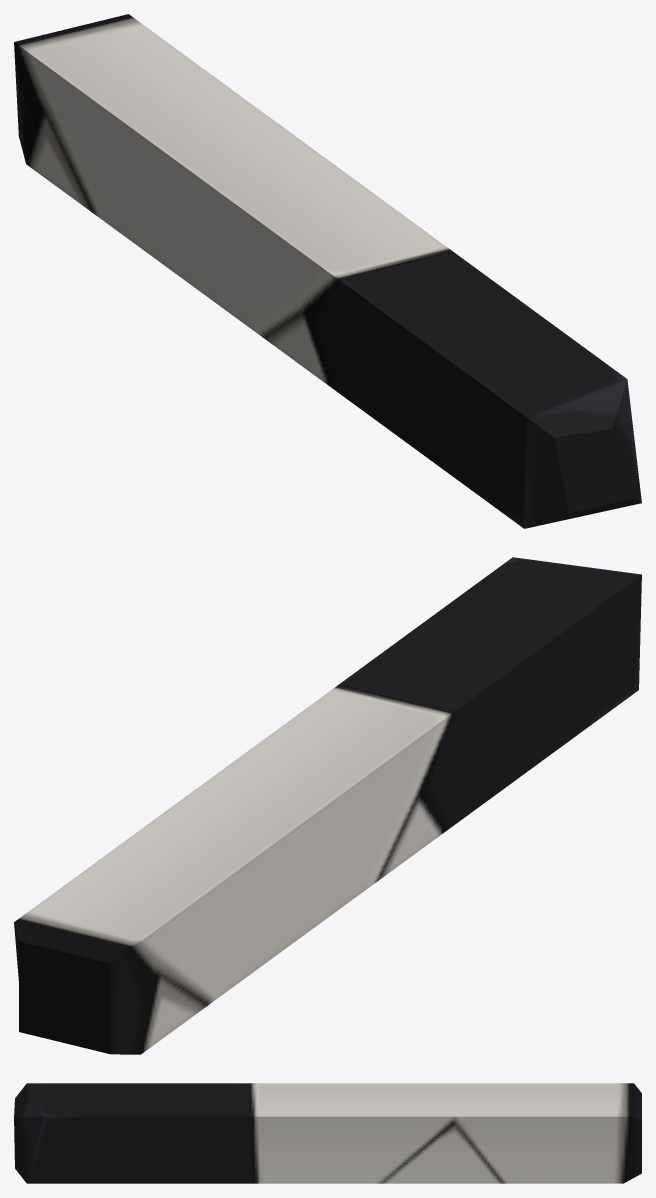
Rendered from Brush.glb.
3 views of the same model, one above another, from view 1: azimuth 30°, elevation 25°; view 2: azimuth 150°, elevation 25°; view 3: azimuth 270°, elevation 25° (orthographic). The views are drawn at different scales.
Visible parts, largest first — view 1: SkillObj_Albedo_Brush_LOD0; view 2: SkillObj_Albedo_Brush_LOD0; view 3: SkillObj_Albedo_Brush_LOD0.
Boxes of the visible parts, left/top/right/bottom form: SkillObj_Albedo_Brush_LOD0: left=14, top=14, right=641, bottom=528; SkillObj_Albedo_Brush_LOD0: left=14, top=557, right=641, bottom=1054; SkillObj_Albedo_Brush_LOD0: left=14, top=1083, right=641, bottom=1183.
Size of the model in its own units: 0.0121 by 0.0115 by 0.0973.
Materials: 1 (1 with a texture image).
